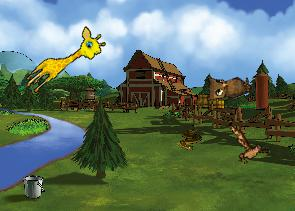eagle: (219, 122, 274, 170)
giraffe: (21, 22, 109, 103)
owl: (200, 64, 253, 106)
